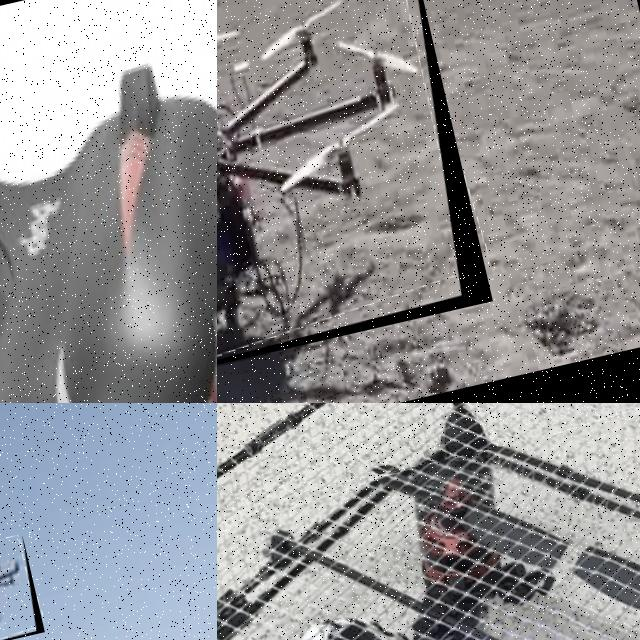drone: (217, 0, 492, 398), (217, 403, 640, 640), (0, 0, 217, 403), (0, 535, 44, 640)
